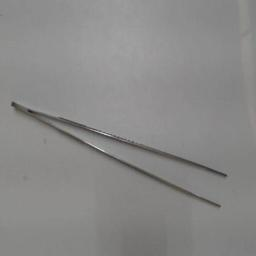DeBakey Dissector: (6, 84, 234, 216)
